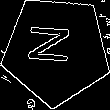N_E: (30, 29, 82, 72)
